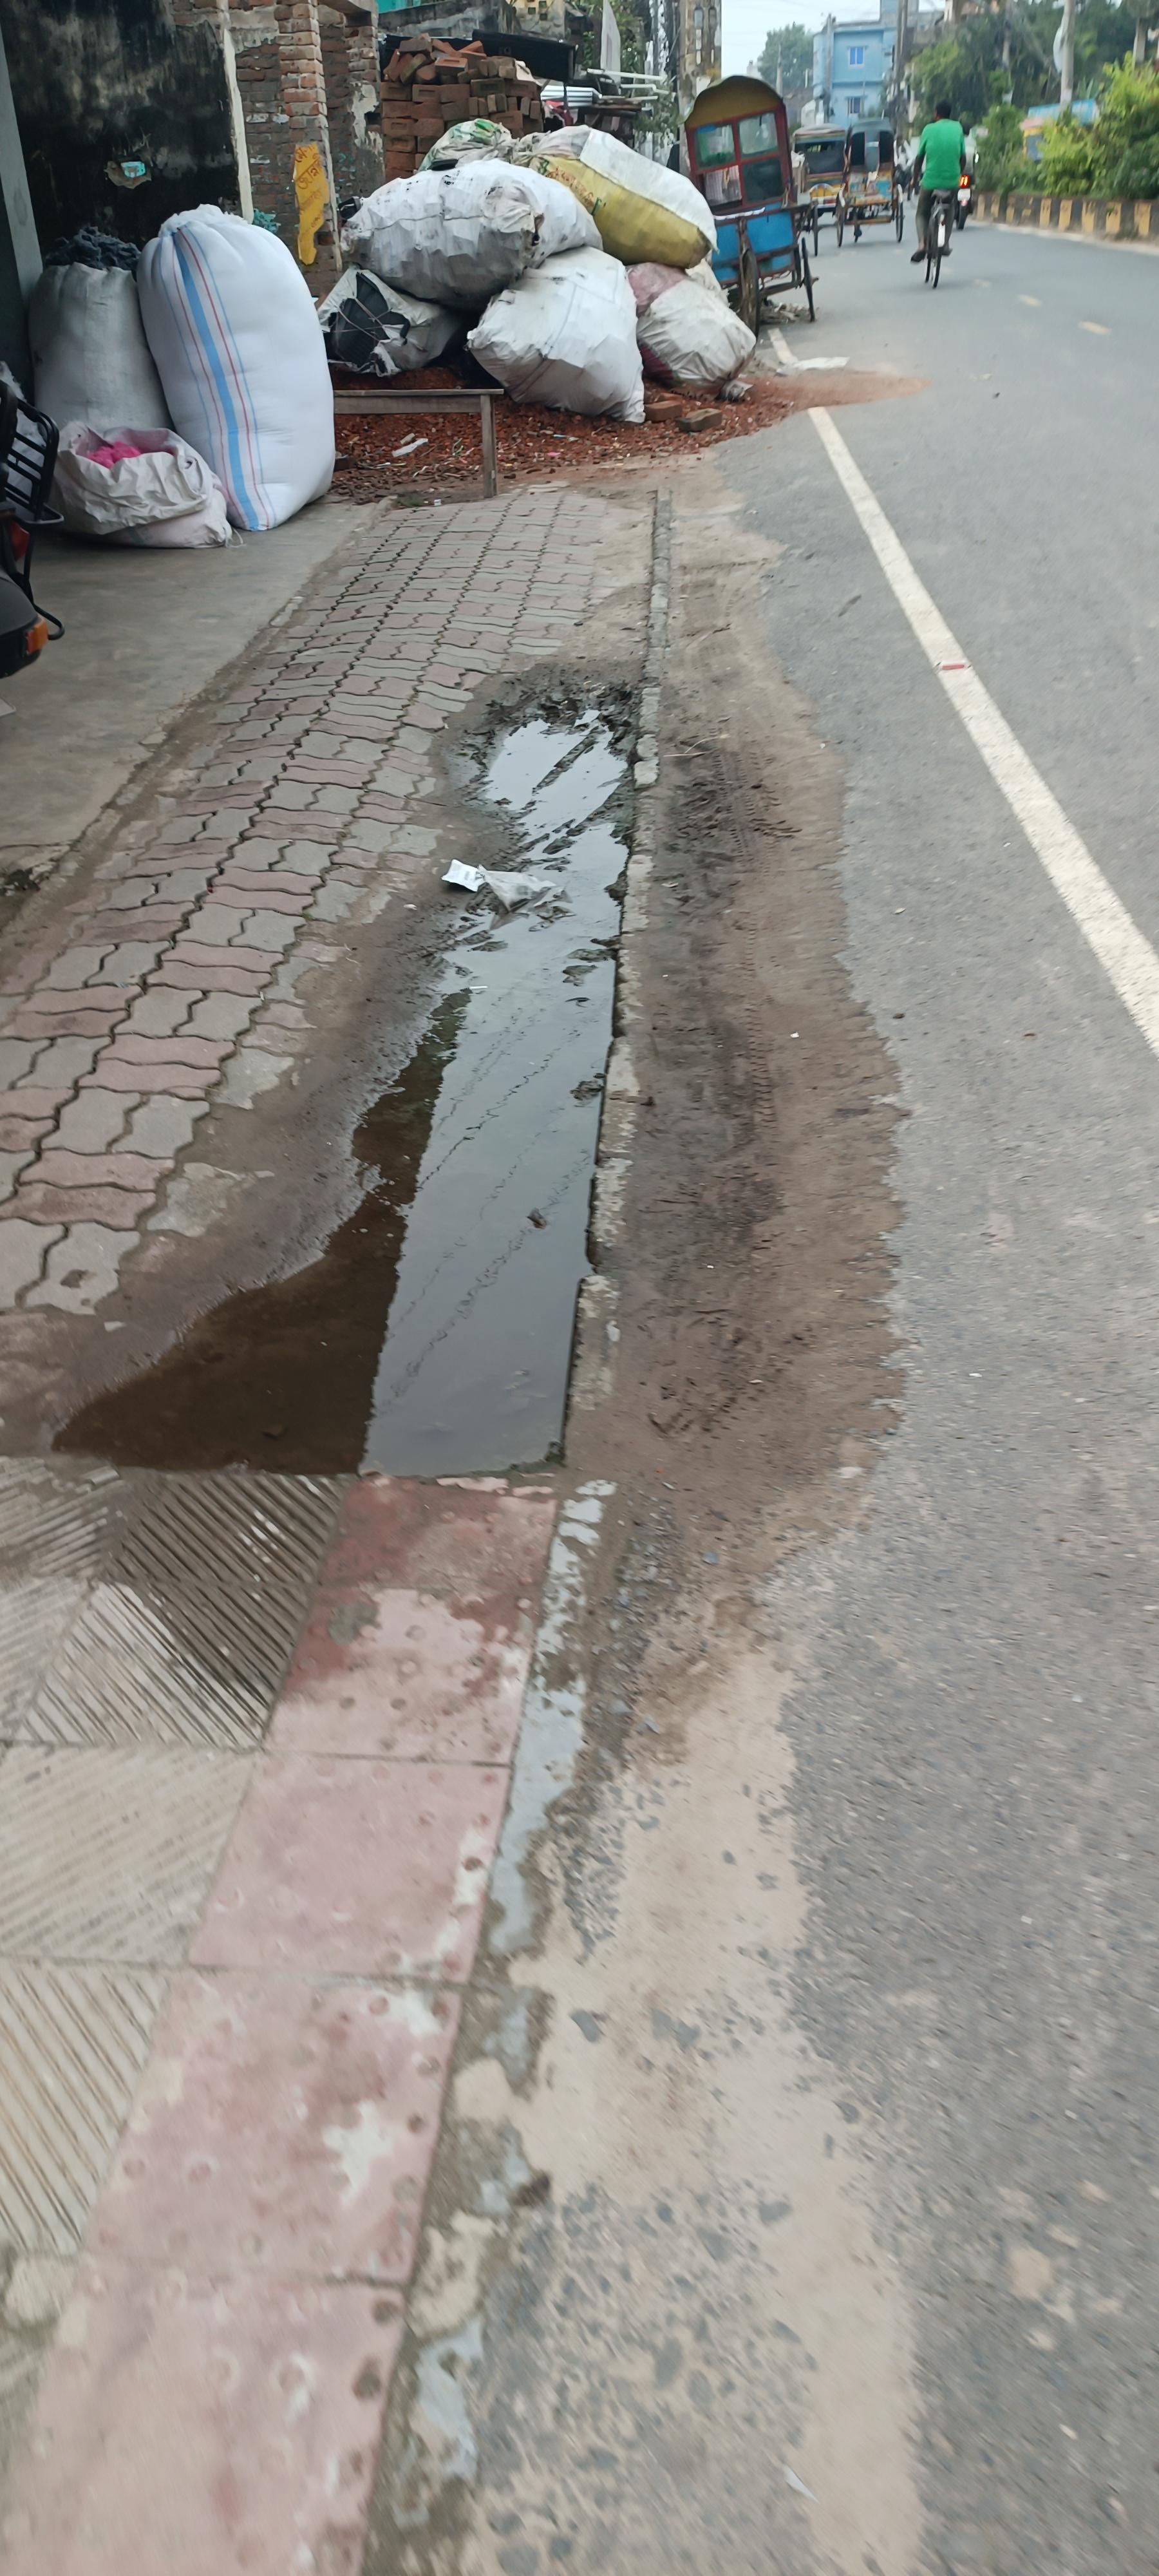Dog: (320, 118, 757, 424)
Garbage-bin: (909, 99, 973, 263)
Motorcycle: (169, 810, 593, 1548)
Pothole: (33, 567, 599, 2479)
